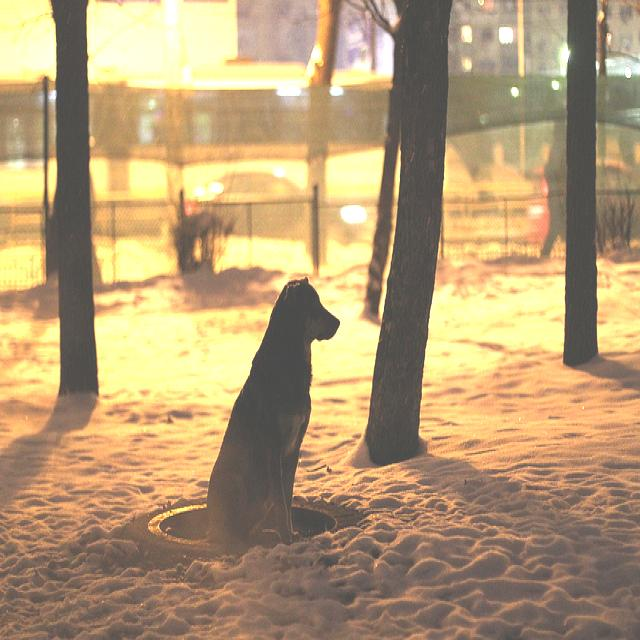Dog: (195, 313, 467, 598)
